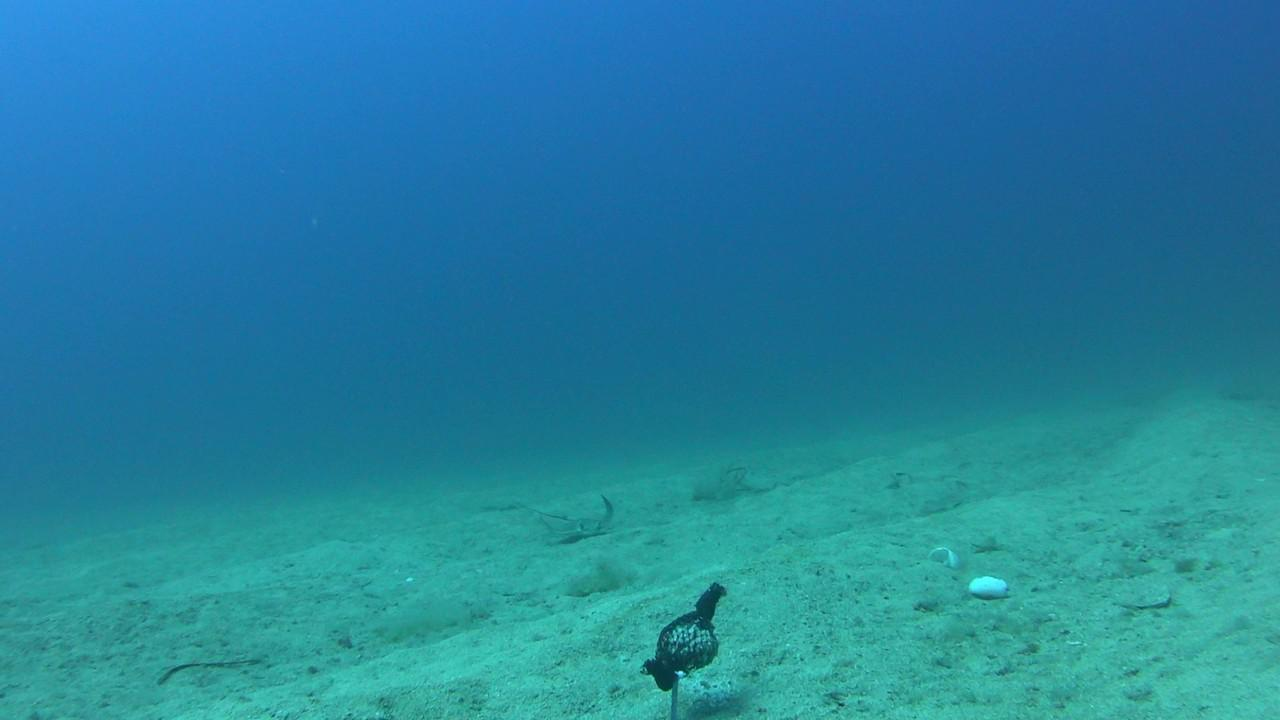myliobatis: (505, 479, 645, 545)
